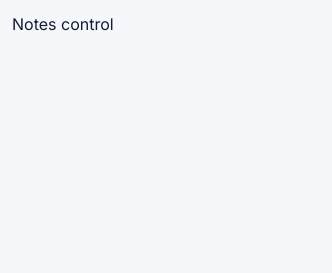
Scenario: PaymentForm locked-field tooltips › shows the unlock explanation for the {"field":"Notes","note":"Notes are read-only while a blocked attempt is open so they stay in sync with the audited payload.
The image size is (332, 273).
Focus the element showing "Notes control" at (63, 24), box left=12, top=12, right=114, bottom=36
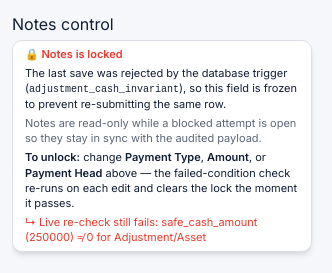
Expected: the text "adjustment_cash_invariant" is shown, left=29, top=84, right=179, bottom=95
Expected: the text "rejected by the database trigger" is shown, left=25, top=66, right=287, bottom=95
Expected: the text "Notes are read-only while a blocked attempt is open so they stay in sync with the audited payload." is shown, left=25, top=116, right=296, bottom=145
